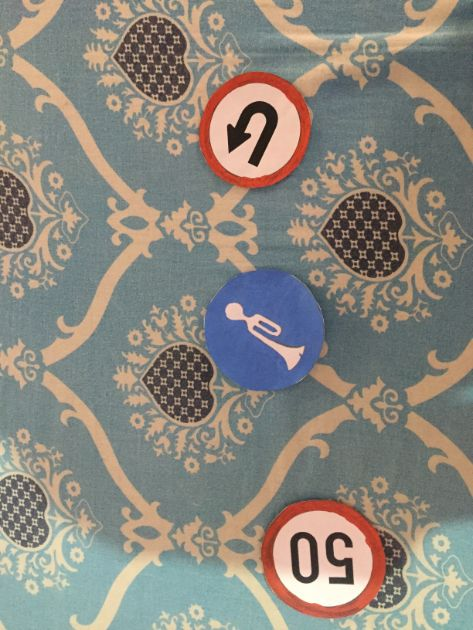blow-horn: (204, 269, 322, 387)
speed-50: (263, 498, 383, 618)
u-turn: (198, 72, 312, 186)
